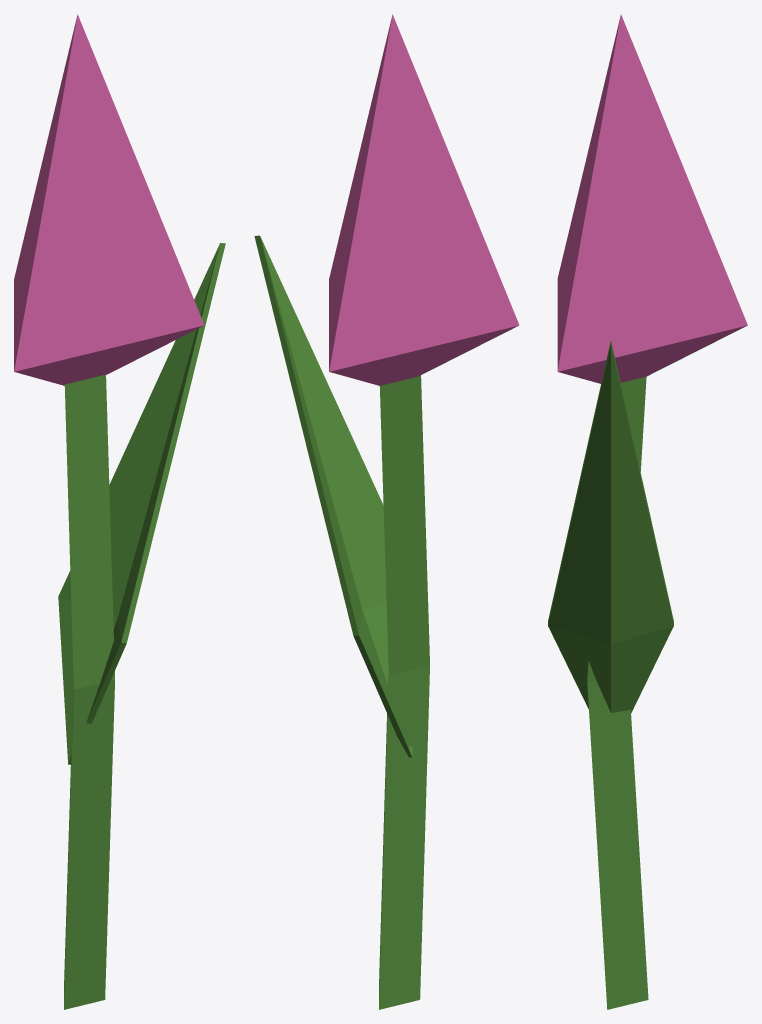
The model's file is Flower_tulip_violet_mat.fbx.
3 renders of one model, left to right at view 1: azimuth 30°, elevation 25°; view 2: azimuth 150°, elevation 25°; view 3: azimuth 270°, elevation 25°, orthographic.
Parts seen in each view (by area): view 1: Flower_tulip_violet_mat; view 2: Flower_tulip_violet_mat; view 3: Flower_tulip_violet_mat.
Boxes of the visible parts, x1=… form: Flower_tulip_violet_mat: x1=14, y1=14, x2=225, y2=1009; Flower_tulip_violet_mat: x1=254, y1=14, x2=519, y2=1009; Flower_tulip_violet_mat: x1=548, y1=14, x2=747, y2=1009.
Size of the model in its own units: 0.588 by 2.32 by 0.4271.
